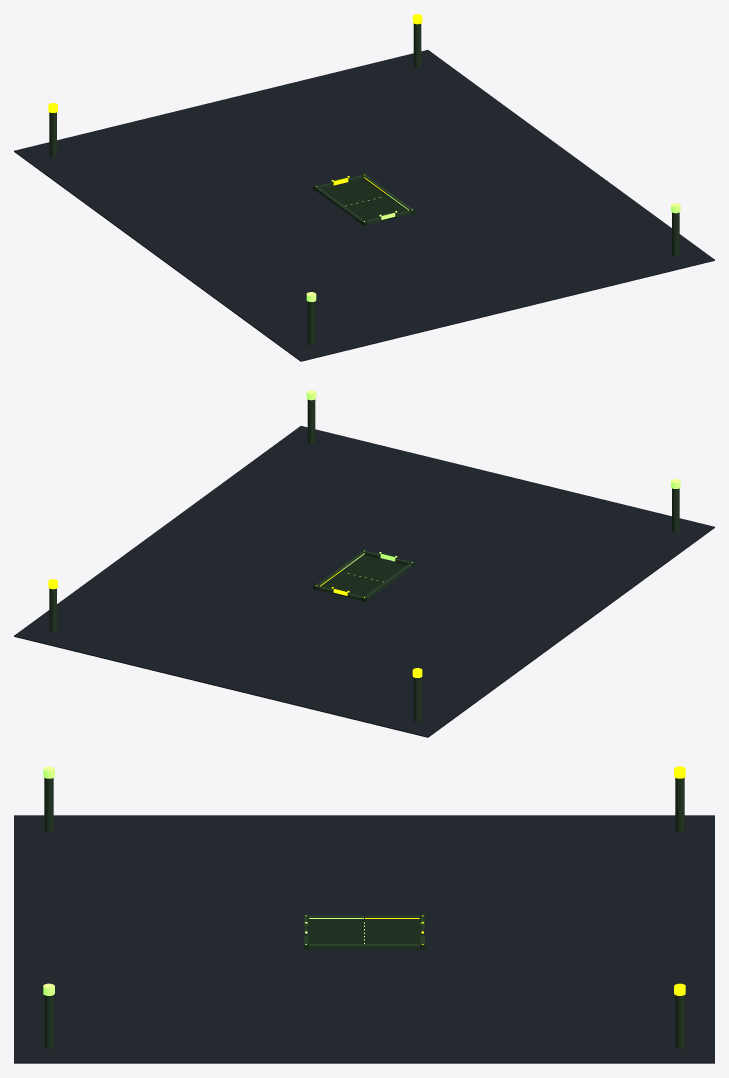
Rendered from mesa_cyber_pong.glb.
The picture shows the model from 3 angles, top to bottom: view 1: azimuth 30°, elevation 25°; view 2: azimuth 150°, elevation 25°; view 3: azimuth 270°, elevation 25°; orthographic projection. The views are drawn at different scales.
Parts seen in each view (by area): view 1: Cube.020, Pong_Surface; view 2: Cube.020, Pong_Surface; view 3: Cube.020, Pong_Surface, Pong_RailR, Pong_RailL, Cylinder.012, Cylinder.014, Cylinder.016, Cylinder.018.
Part boxes in pixels (x1,y1,x2,y2): Cube.020: (14,50,714,361); Pong_Surface: (322,179,406,221); Cube.020: (14,426,714,737); Pong_Surface: (322,555,406,597); Cube.020: (14,815,714,1063); Pong_Surface: (308,921,420,949); Pong_RailR: (309,944,419,949); Pong_RailL: (309,915,419,920); Cylinder.012: (44,778,53,831); Cylinder.014: (44,995,53,1049); Cylinder.016: (675,778,684,831); Cylinder.018: (675,995,684,1049).
Size of the model in its own units: 10 by 1.18 by 12.
